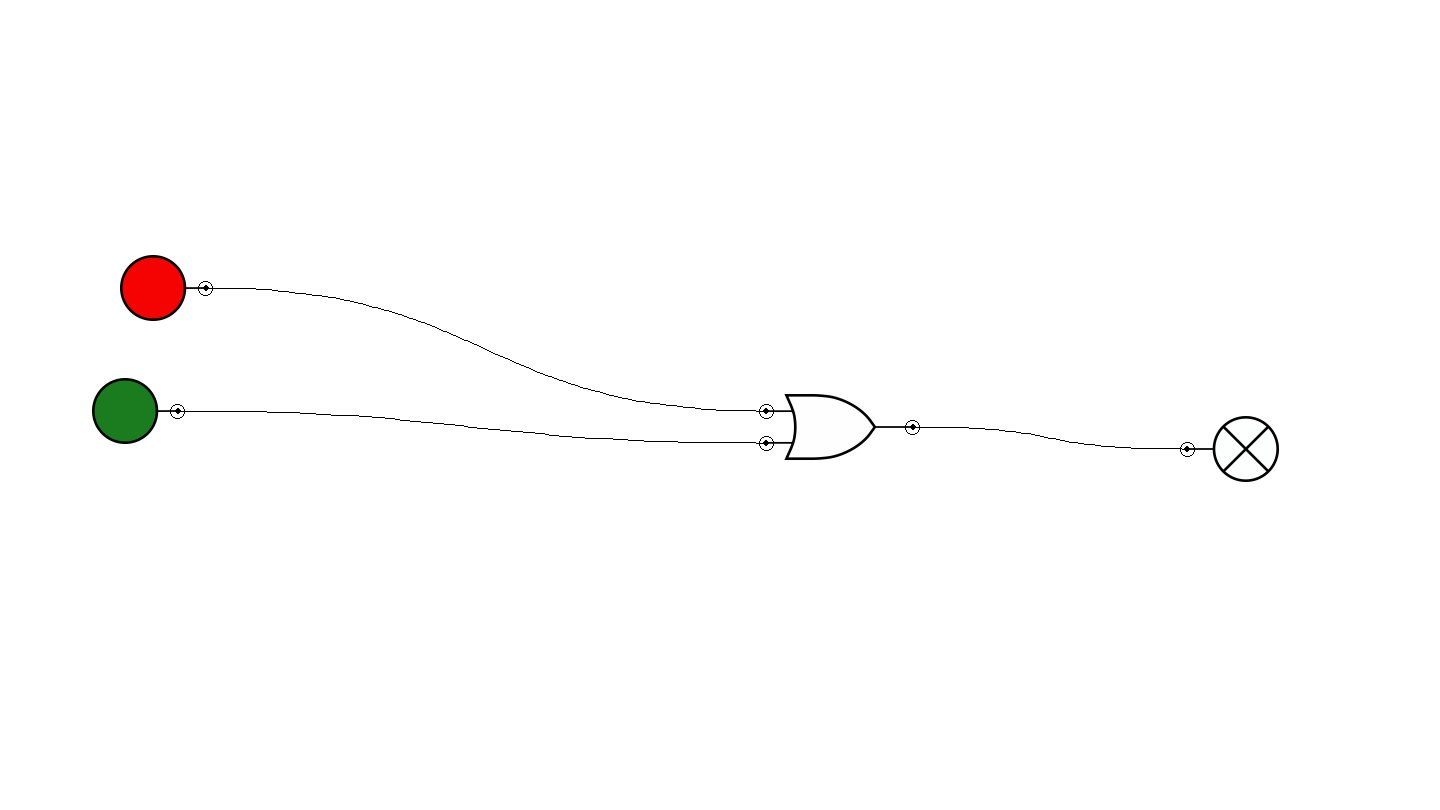bulb: (1180, 416, 1279, 482)
or: (759, 394, 920, 460)
switch_False: (120, 255, 213, 321)
switch_True: (92, 378, 185, 444)
